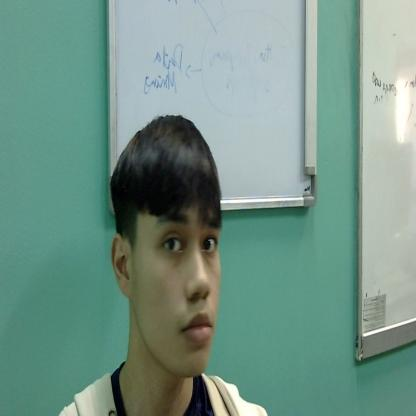Open-Eyes: (156, 206, 221, 267)
